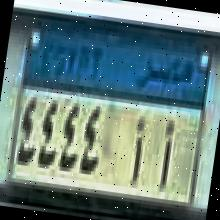4: (78, 103, 107, 181), (14, 93, 42, 167), (35, 100, 62, 171), (57, 102, 83, 174)
alif: (152, 119, 182, 191), (123, 114, 150, 187)
